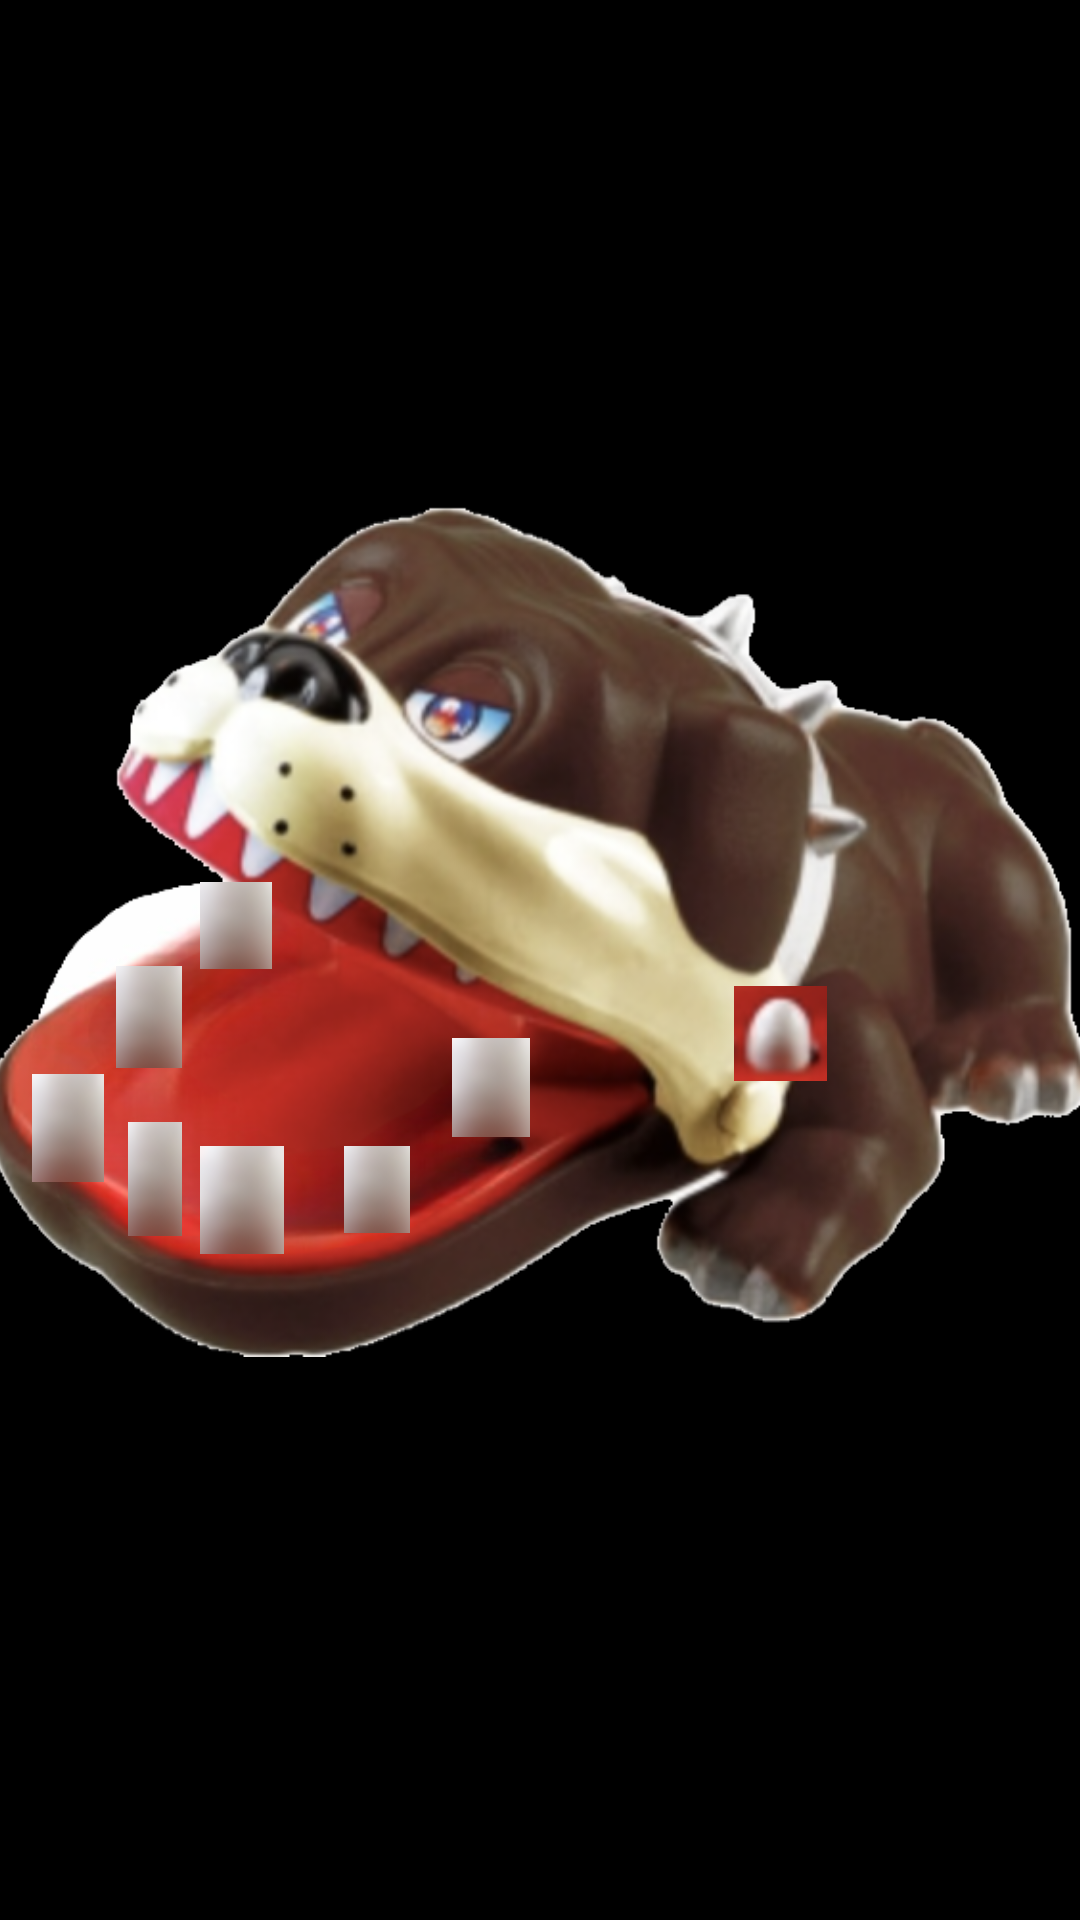

Point at icon controls on the screen. Image size 1080x1920, points as point (x, y).
tooth: point (236, 925), point (149, 1017), point (780, 1033), point (491, 1087), point (68, 1128), point (155, 1179), point (242, 1200), point (377, 1189)
